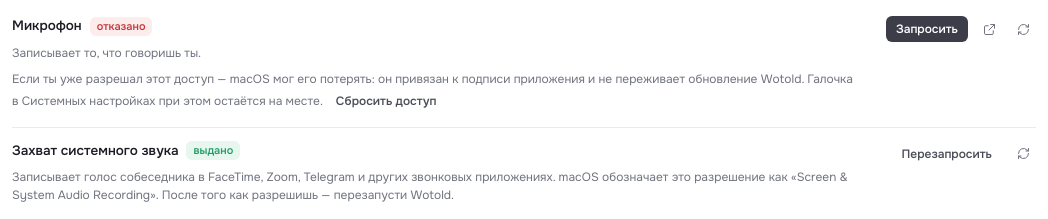
Test: PermissionsSection › фоновый опрос не откатывает результат явного запроса
The width and height of the screenshot is (1048, 219).
Expected: the text "отказано" is shown, x1=90 y1=17 x2=152 y2=36
// Пока он висит, пользователь жмёт «Запросить» и отвечает на диалог.
Step 1. Click the button "Запросить" → (927,29), box x1=886 y1=16 x2=968 y2=42
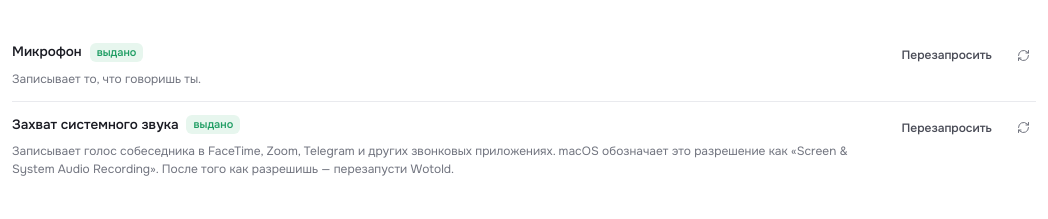
Expected: the text "выдано" is shown 2 times, x1=90 y1=43 x2=144 y2=62; x1=186 y1=115 x2=240 y2=134
Now the text "отказано" is gone
